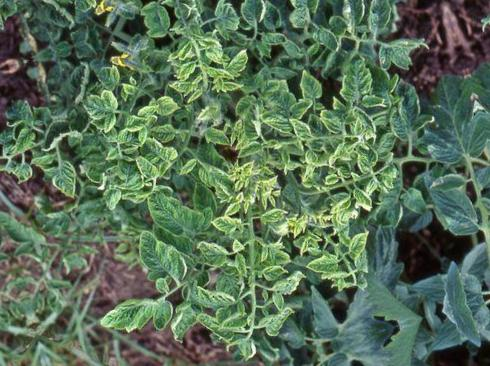Tomato mold leaf: (398, 58, 490, 172), (87, 285, 182, 354), (139, 180, 209, 250), (127, 215, 189, 288), (370, 27, 438, 84), (255, 79, 310, 141), (329, 50, 380, 106), (74, 86, 126, 138), (158, 297, 208, 350), (185, 270, 237, 316), (354, 0, 409, 42), (328, 0, 377, 47), (273, 0, 339, 34), (46, 159, 87, 208), (289, 63, 332, 109), (233, 0, 278, 35), (215, 48, 254, 82), (207, 208, 246, 241), (200, 120, 234, 152), (131, 150, 161, 186), (152, 91, 187, 121)
